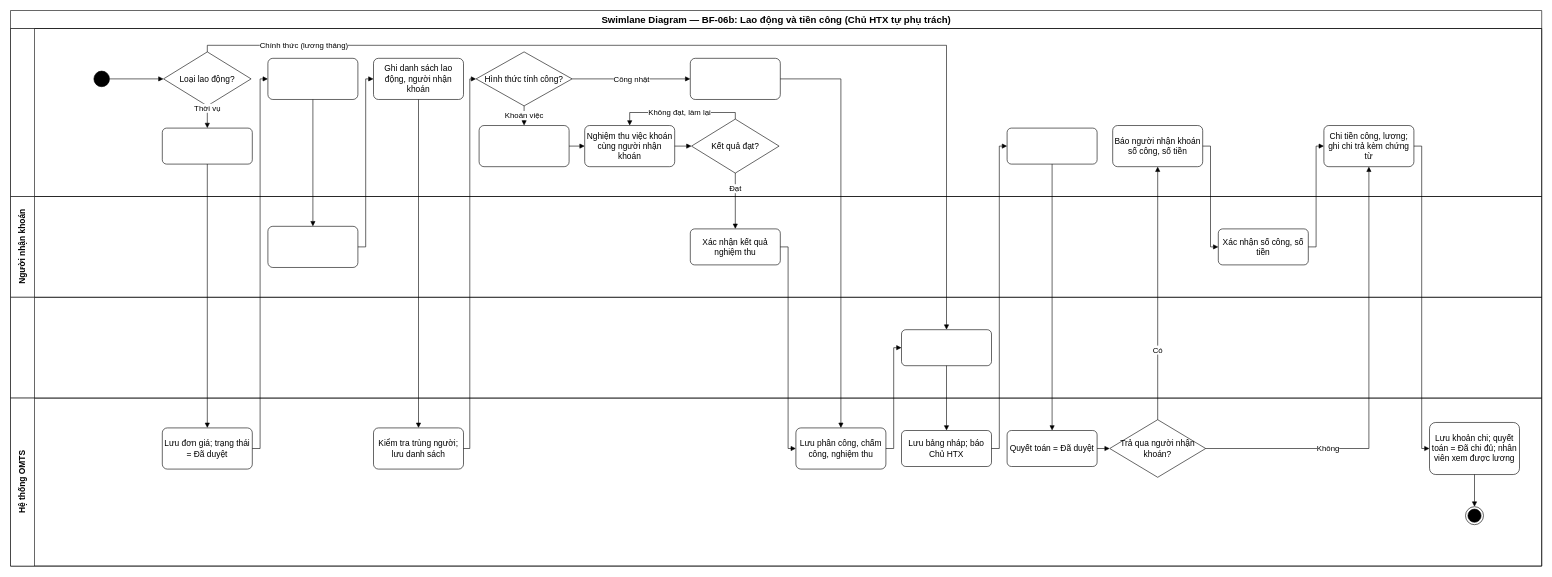
This 1552x577 diagram has some shape labels left out. Each missing label, with the box of its shape:
Báo người nhận khoán đơn giá công nhật: (267, 58, 358, 99)
Chấm công từng người: cả ngày / nửa ngày: (690, 58, 780, 99)
Chủ HTX: (10, 28, 1542, 196)
Giao khoán việc: mô tả, số tiền khoán: (478, 125, 569, 167)
Kế toán: (10, 297, 1542, 398)
Lập bảng công, bảng lương nháp: (901, 329, 992, 366)
Rà, sửa và duyệt bảng: (1006, 128, 1097, 164)
Thống nhất đơn giá, huy động người làm: (267, 226, 358, 267)
Đặt và duyệt đơn giá công nhật: (162, 128, 252, 164)
